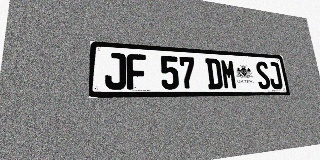5: (160, 55, 180, 89)
7: (178, 57, 197, 89)
D: (205, 58, 223, 89)
F: (126, 54, 147, 90)
J: (105, 52, 126, 90), (267, 62, 283, 89)
M: (220, 59, 238, 89)
S: (255, 61, 271, 89)
